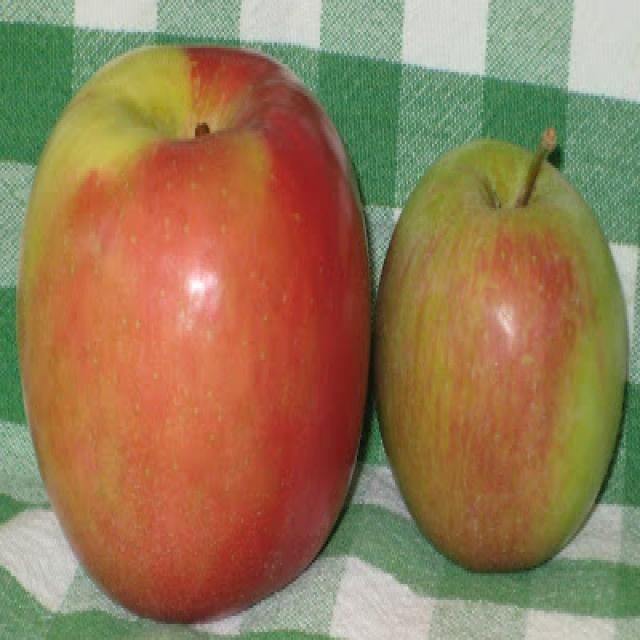Apple: (25, 47, 377, 624), (376, 123, 632, 575)
